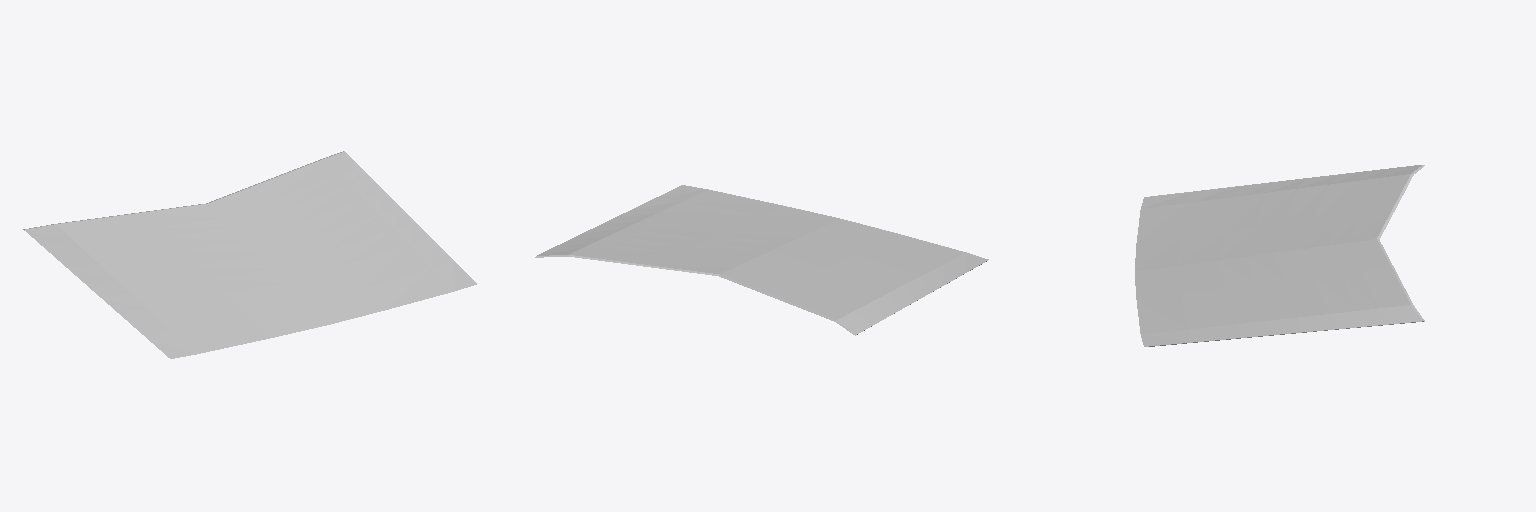
File: cricket_bonnet.obj
The picture shows the model from 3 angles: view 1: azimuth 30°, elevation 25°; view 2: azimuth 150°, elevation 25°; view 3: azimuth 270°, elevation 25°; orthographic projection.
Visible parts, largest first — view 1: Bonnet; view 2: Bonnet; view 3: Bonnet.
Boxes of the visible parts, box(x1,y1,x2,y2) form: Bonnet: box(23, 151, 476, 358); Bonnet: box(535, 185, 988, 335); Bonnet: box(1135, 165, 1424, 346).
Size of the model in its own units: 1.41 by 0.1419 by 1.1.